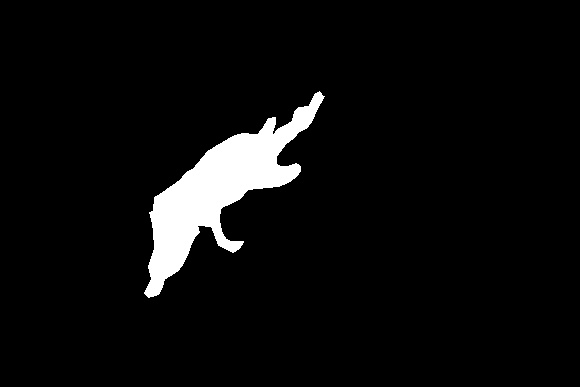Fire: (187, 84, 333, 199)
